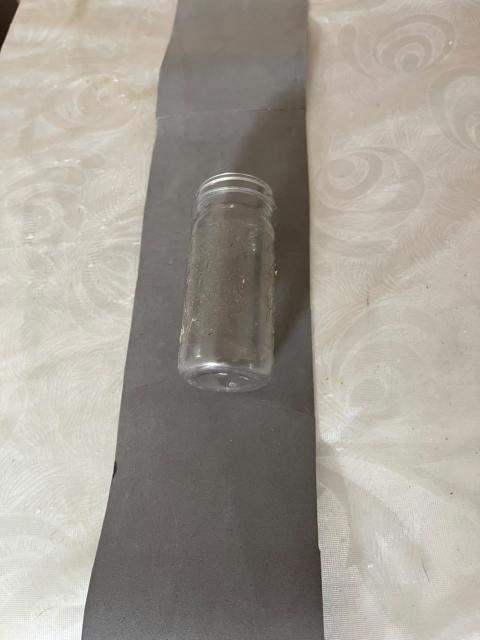PET: (140, 135, 312, 425)
